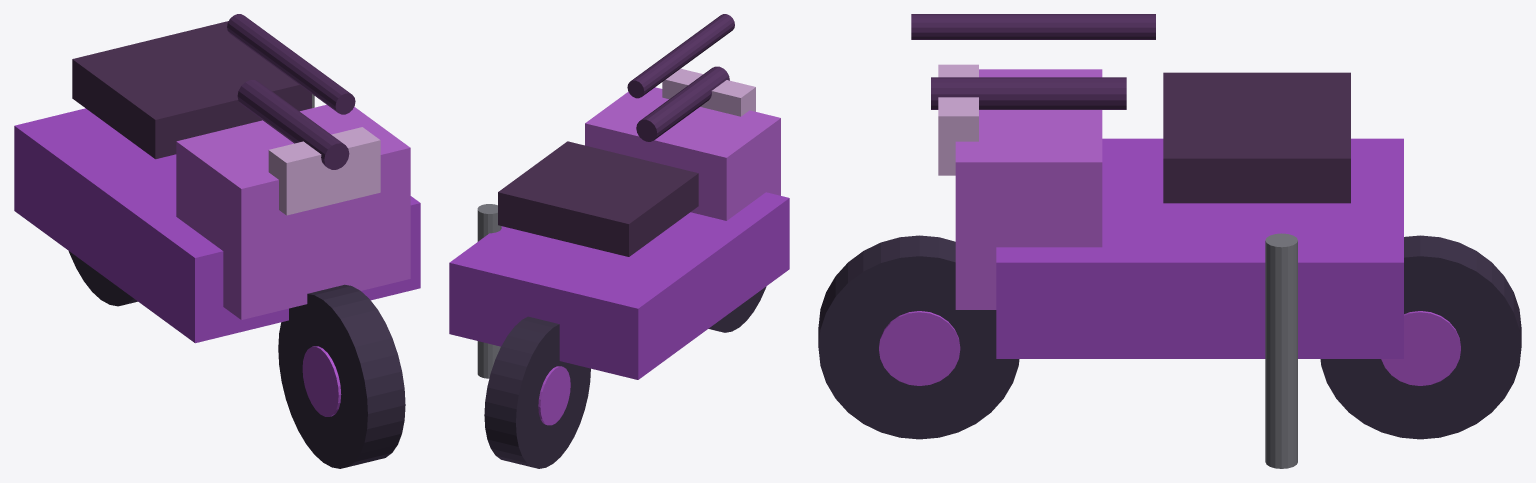
The model's file is vortex_moped.glb.
3 views of the same model, side by side, from view 1: azimuth 30°, elevation 25°; view 2: azimuth 150°, elevation 25°; view 3: azimuth 270°, elevation 25° (orthographic). The views are drawn at different scales.
Parts seen in each view (by area): view 1: world; view 2: world; view 3: world.
Part boxes in pixels (bbox=[...]): world: bbox=[14, 14, 420, 468]; world: bbox=[449, 14, 789, 468]; world: bbox=[818, 14, 1521, 468].
Size of the model in its own units: 1.95 by 2.8 by 4.31.
